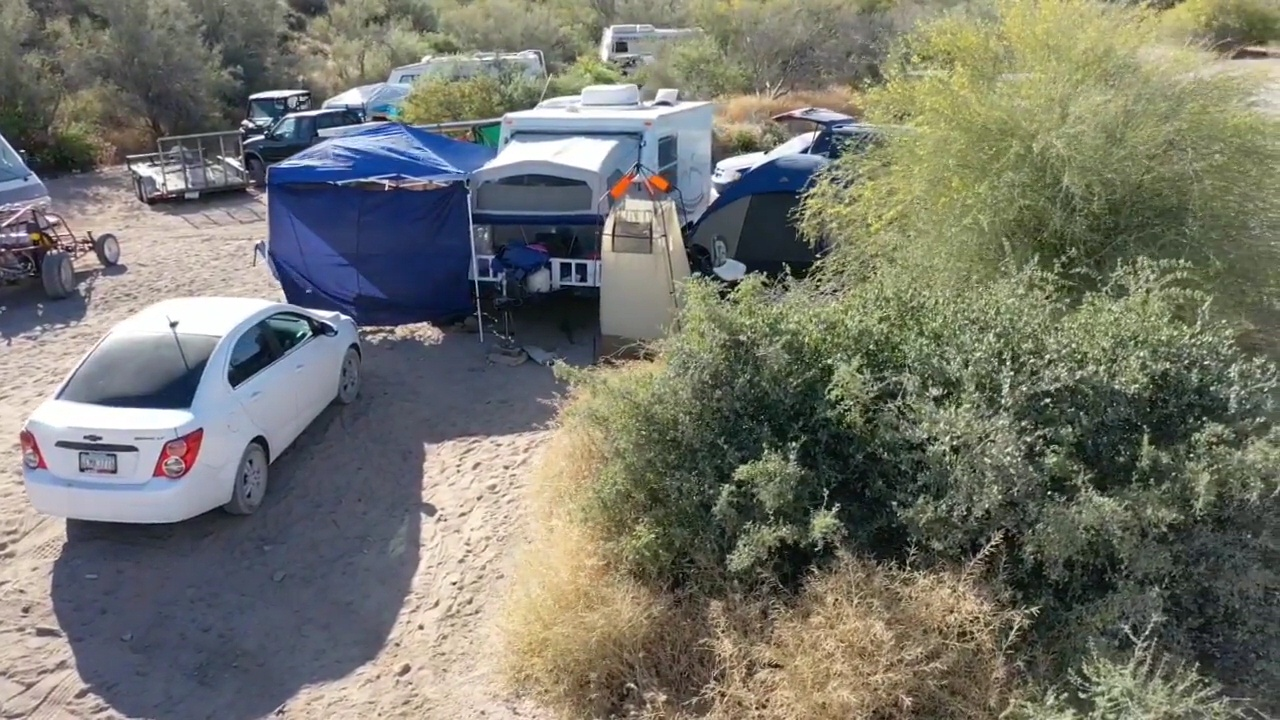araba: (11, 287, 371, 525), (237, 105, 372, 183)
